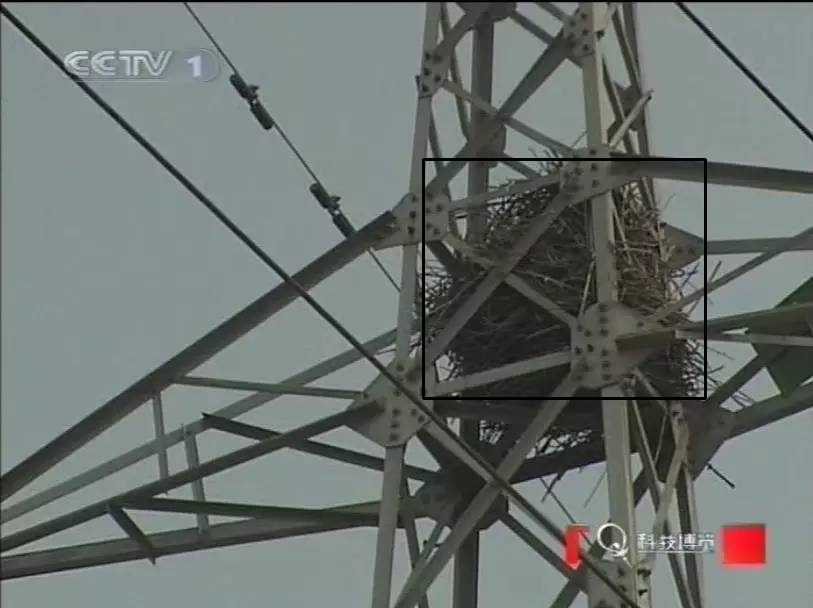bird-nest: (423, 159, 705, 398)
